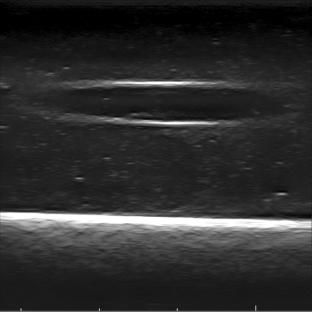vessel: (49, 79, 274, 126)
